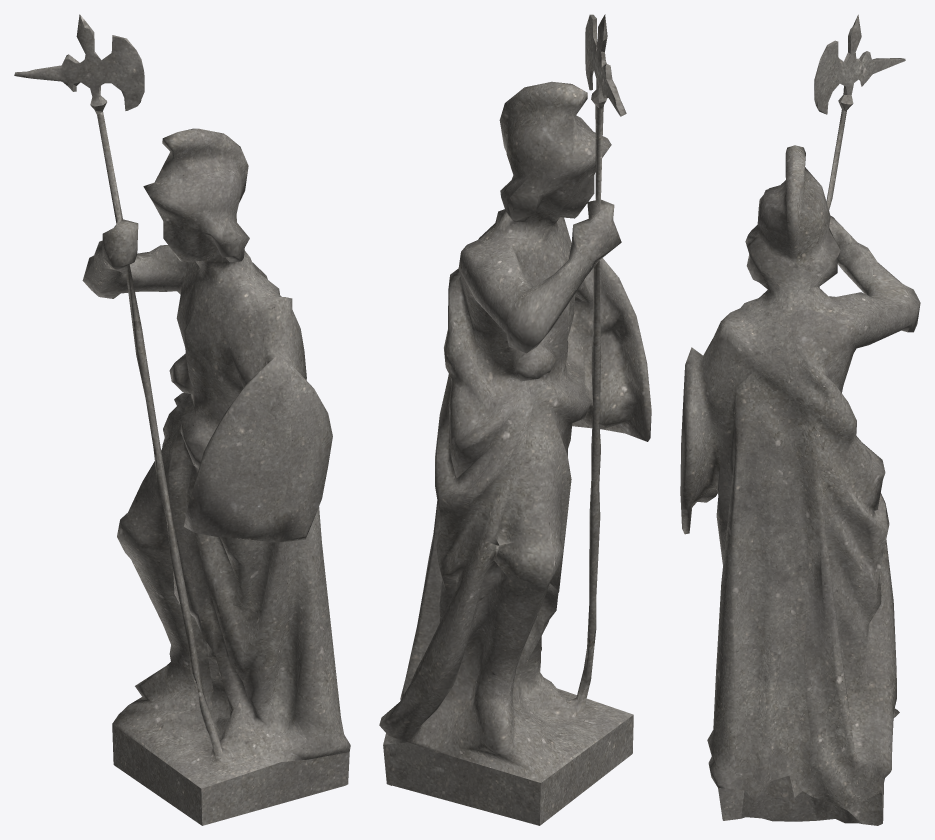
File: SM_Statue_2.fbx
3 renders of one model, left to right at view 1: azimuth 30°, elevation 25°; view 2: azimuth 150°, elevation 25°; view 3: azimuth 270°, elevation 25°, orthographic. The views are drawn at different scales.
Visible parts, largest first — view 1: SM_Statue_2_LOD0; view 2: SM_Statue_2_LOD0; view 3: SM_Statue_2_LOD0.
Part boxes in pixels (bbox=[...]): SM_Statue_2_LOD0: bbox=[14, 14, 350, 825]; SM_Statue_2_LOD0: bbox=[379, 14, 651, 825]; SM_Statue_2_LOD0: bbox=[680, 14, 920, 825].
Size of the model in its own units: 107 by 97.86 by 326.
